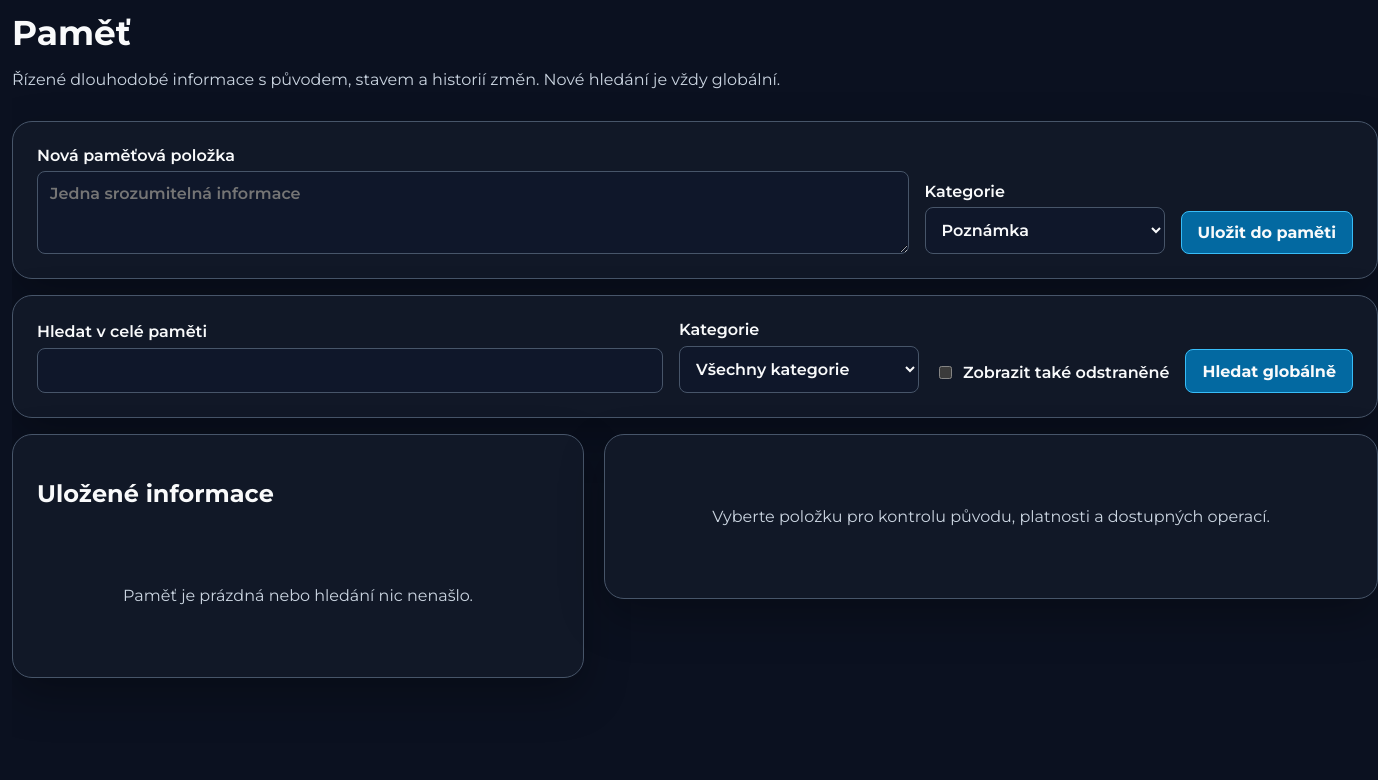
Test: authenticated management screens › keeps memory create errors visible
Type "Nová poznámka" into the text box labelled "Nová paměťová položka". click: (473, 213)
box: [37,171,909,254]
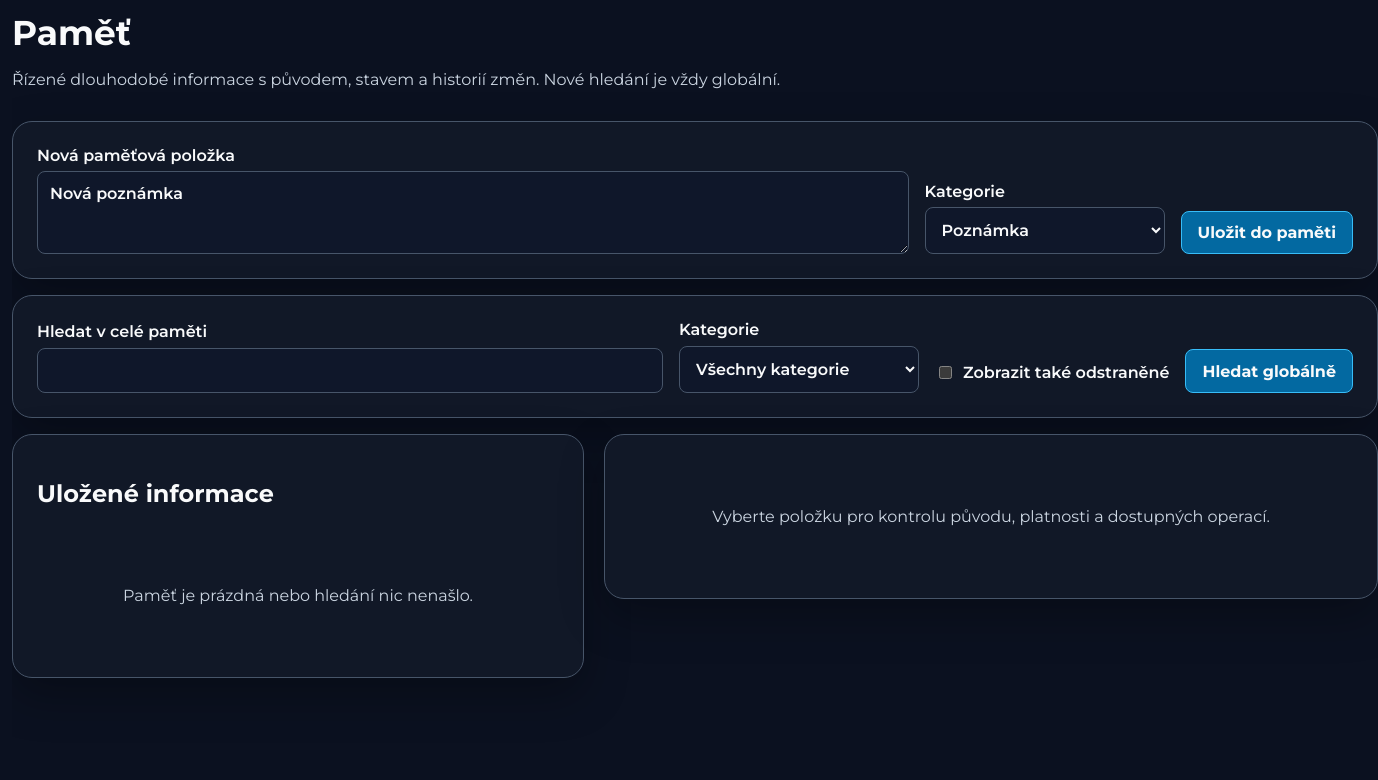
Submit the form "Uložit do paměti", box [12,121,1377,279]
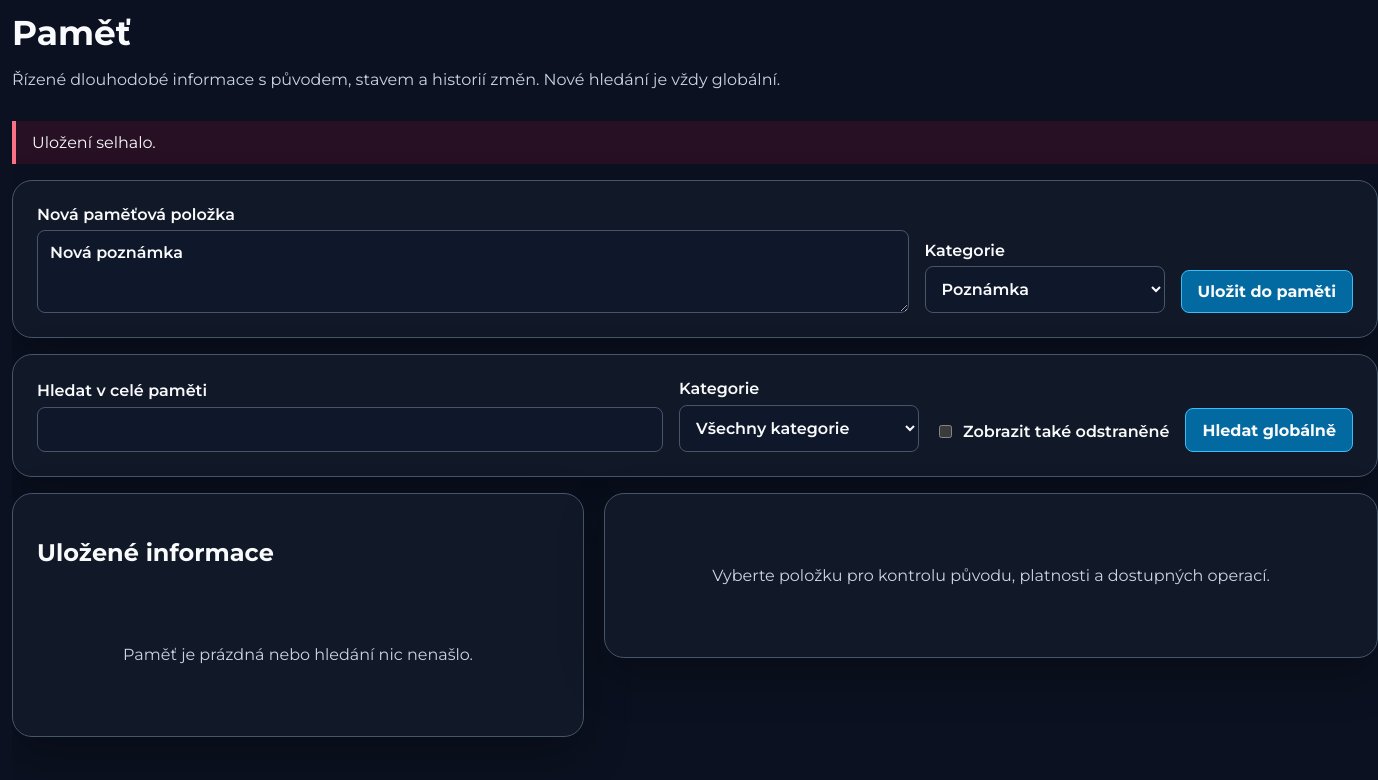
Expected: the message reads "Uložení selhalo.", [32,133,156,152]
